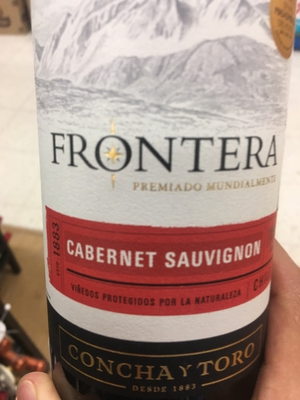frontera cabernet sauvignon: (31, 1, 290, 400)
